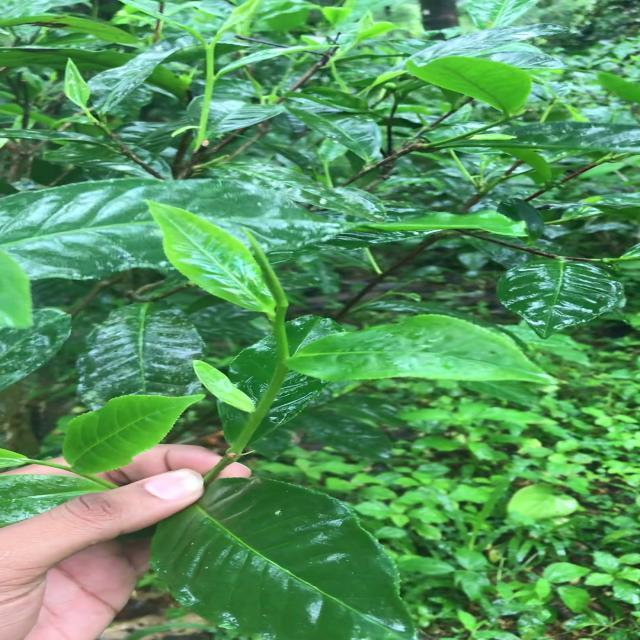Stem: (273, 320, 284, 331)
